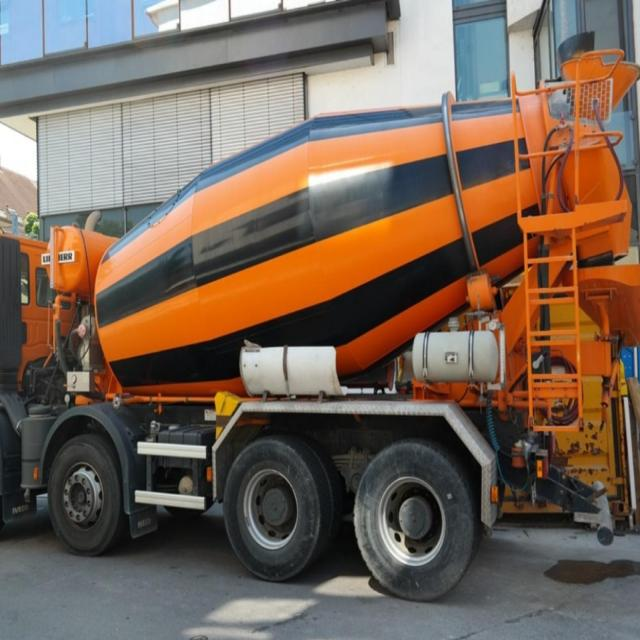truck: (0, 33, 640, 600)
